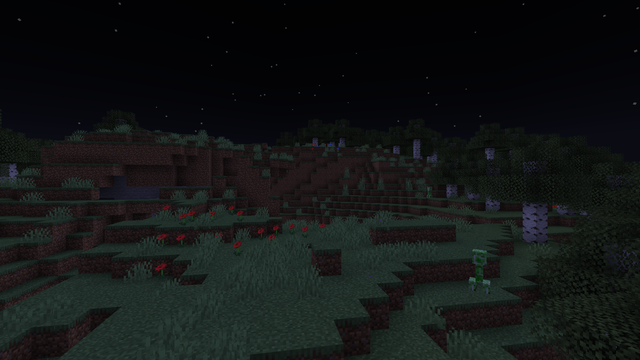creepers: (467, 247, 490, 293), (426, 186, 432, 197)
